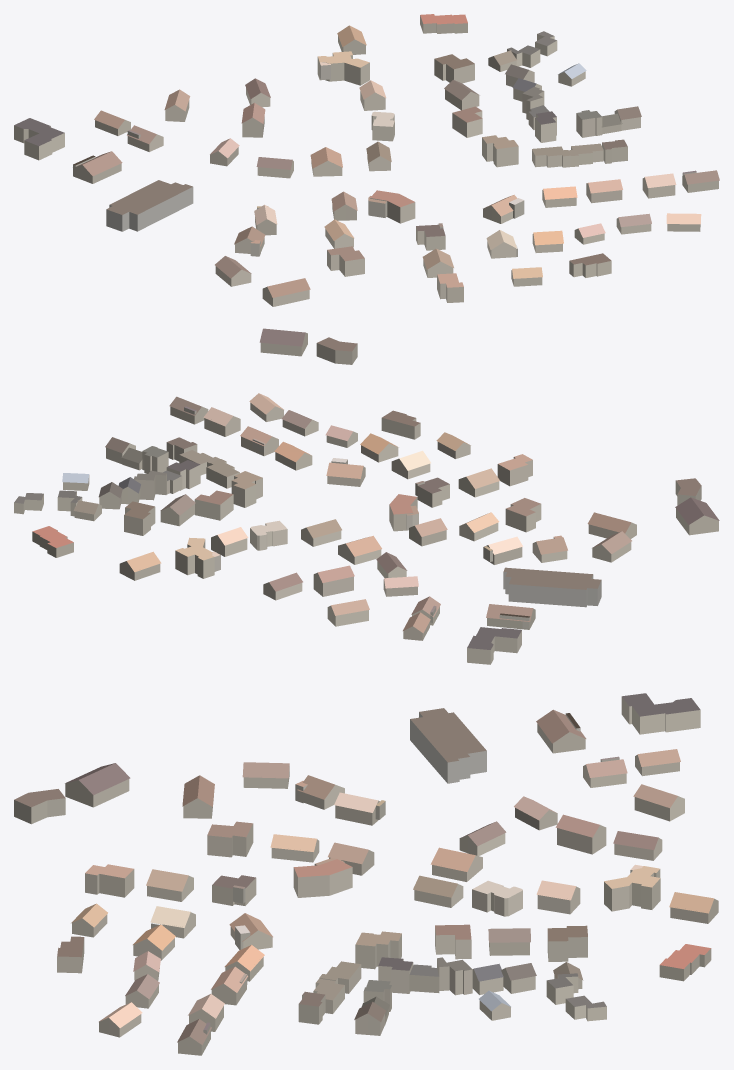
3 views of the same model, one above another, from view 1: azimuth 30°, elevation 25°; view 2: azimuth 150°, elevation 25°; view 3: azimuth 270°, elevation 25° (orthographic). The views are drawn at different scales.
Visible parts, largest first — view 1: tuile; view 2: tuile; view 3: tuile.
Part boxes in pixels (box(x1,y1,x2,y2)): tuile: box(14, 14, 719, 364); tuile: box(14, 393, 719, 664); tuile: box(14, 693, 718, 1055).
Size of the model in its own units: 262 by 33.8 by 247.
